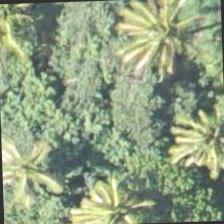Kelapa_Sawit: (112, 0, 206, 78), (0, 117, 72, 208), (161, 92, 223, 186), (67, 162, 161, 223), (0, 2, 45, 54)
